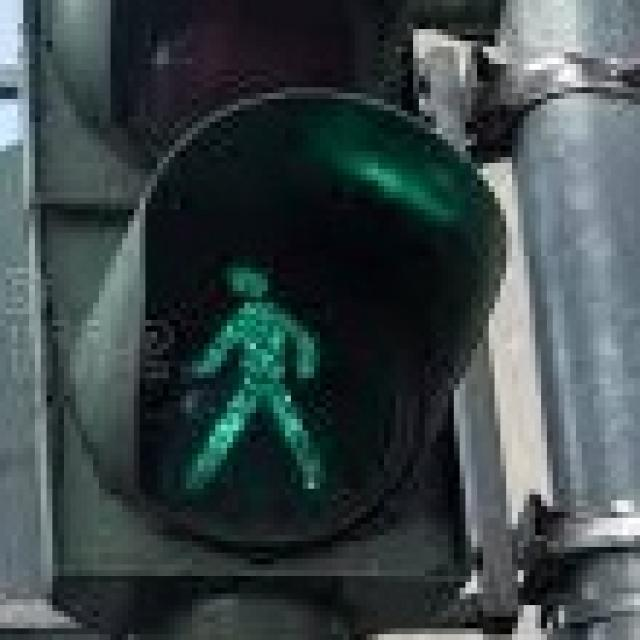geen-crossing: (162, 238, 338, 506)
